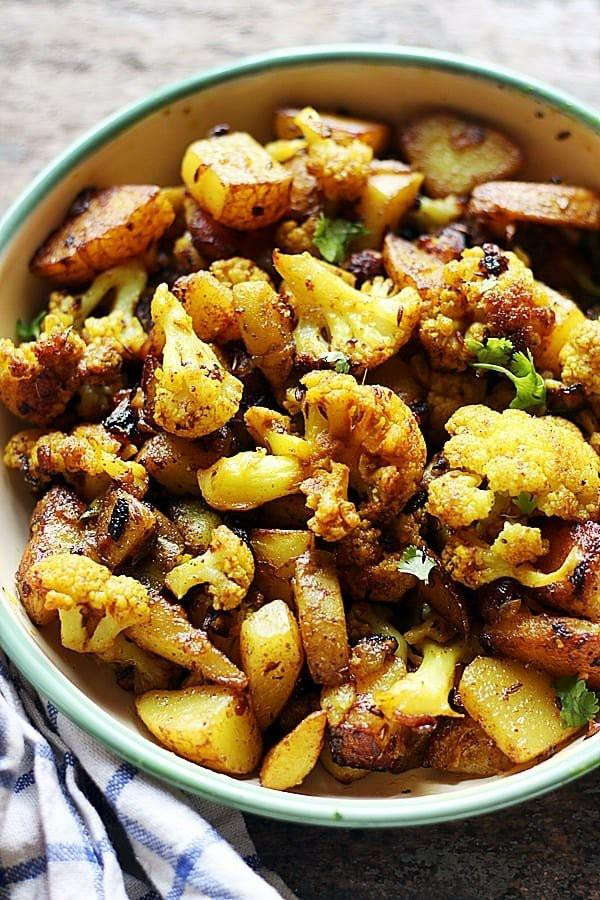AlooGobi: (0, 98, 600, 791)
